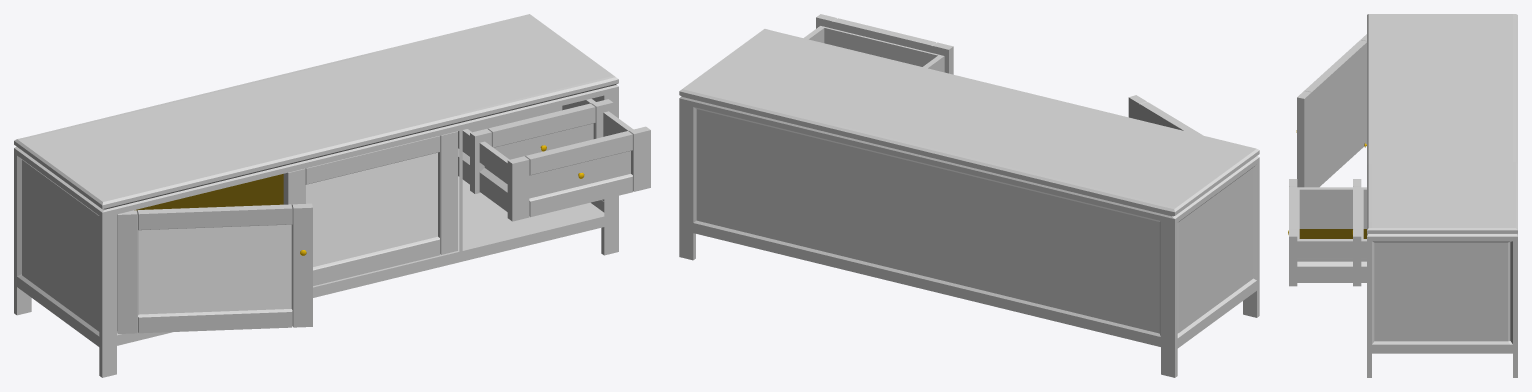
The picture shows the model from 3 angles, left to right: view 1: azimuth 30°, elevation 25°; view 2: azimuth 150°, elevation 25°; view 3: azimuth 270°, elevation 25°; orthographic projection. The views are drawn at different scales.
Visible parts, largest first — view 1: rack, doorLeft, doorRight, drawerDown, drawerUp, shelf; view 2: rack, drawerDown, doorLeft; view 3: rack, doorLeft, drawerDown, drawerUp.
Part boxes in pixels (x1=…): rack: x1=14, y1=14, x2=618, y2=377; doorLeft: x1=117, y1=203, x2=312, y2=333; doorRight: x1=283, y1=131, x2=457, y2=285; drawerDown: x1=458, y1=100, x2=650, y2=221; drawerUp: x1=458, y1=98, x2=613, y2=193; shelf: x1=134, y1=174, x2=283, y2=210; rack: x1=679, y1=29, x2=1259, y2=377; drawerDown: x1=803, y1=14, x2=953, y2=74; doorLeft: x1=1128, y1=95, x2=1202, y2=135; rack: x1=1367, y1=14, x2=1517, y2=377; doorLeft: x1=1296, y1=34, x2=1366, y2=187; drawerDown: x1=1288, y1=179, x2=1366, y2=286; drawerUp: x1=1352, y1=179, x2=1366, y2=286.
Bounding box in the file's own units: 15.2 × 4.91 × 6.85.
